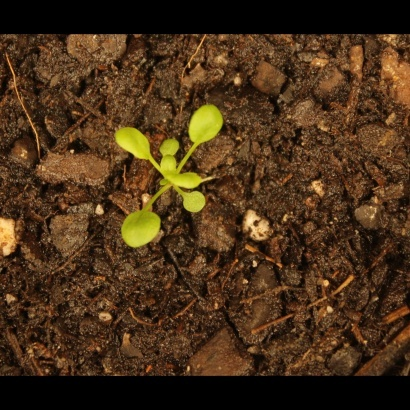leaf: (111, 117, 155, 170), (117, 203, 165, 249), (186, 101, 228, 146), (179, 190, 210, 221), (171, 168, 201, 194), (156, 135, 186, 160), (156, 155, 186, 178)
